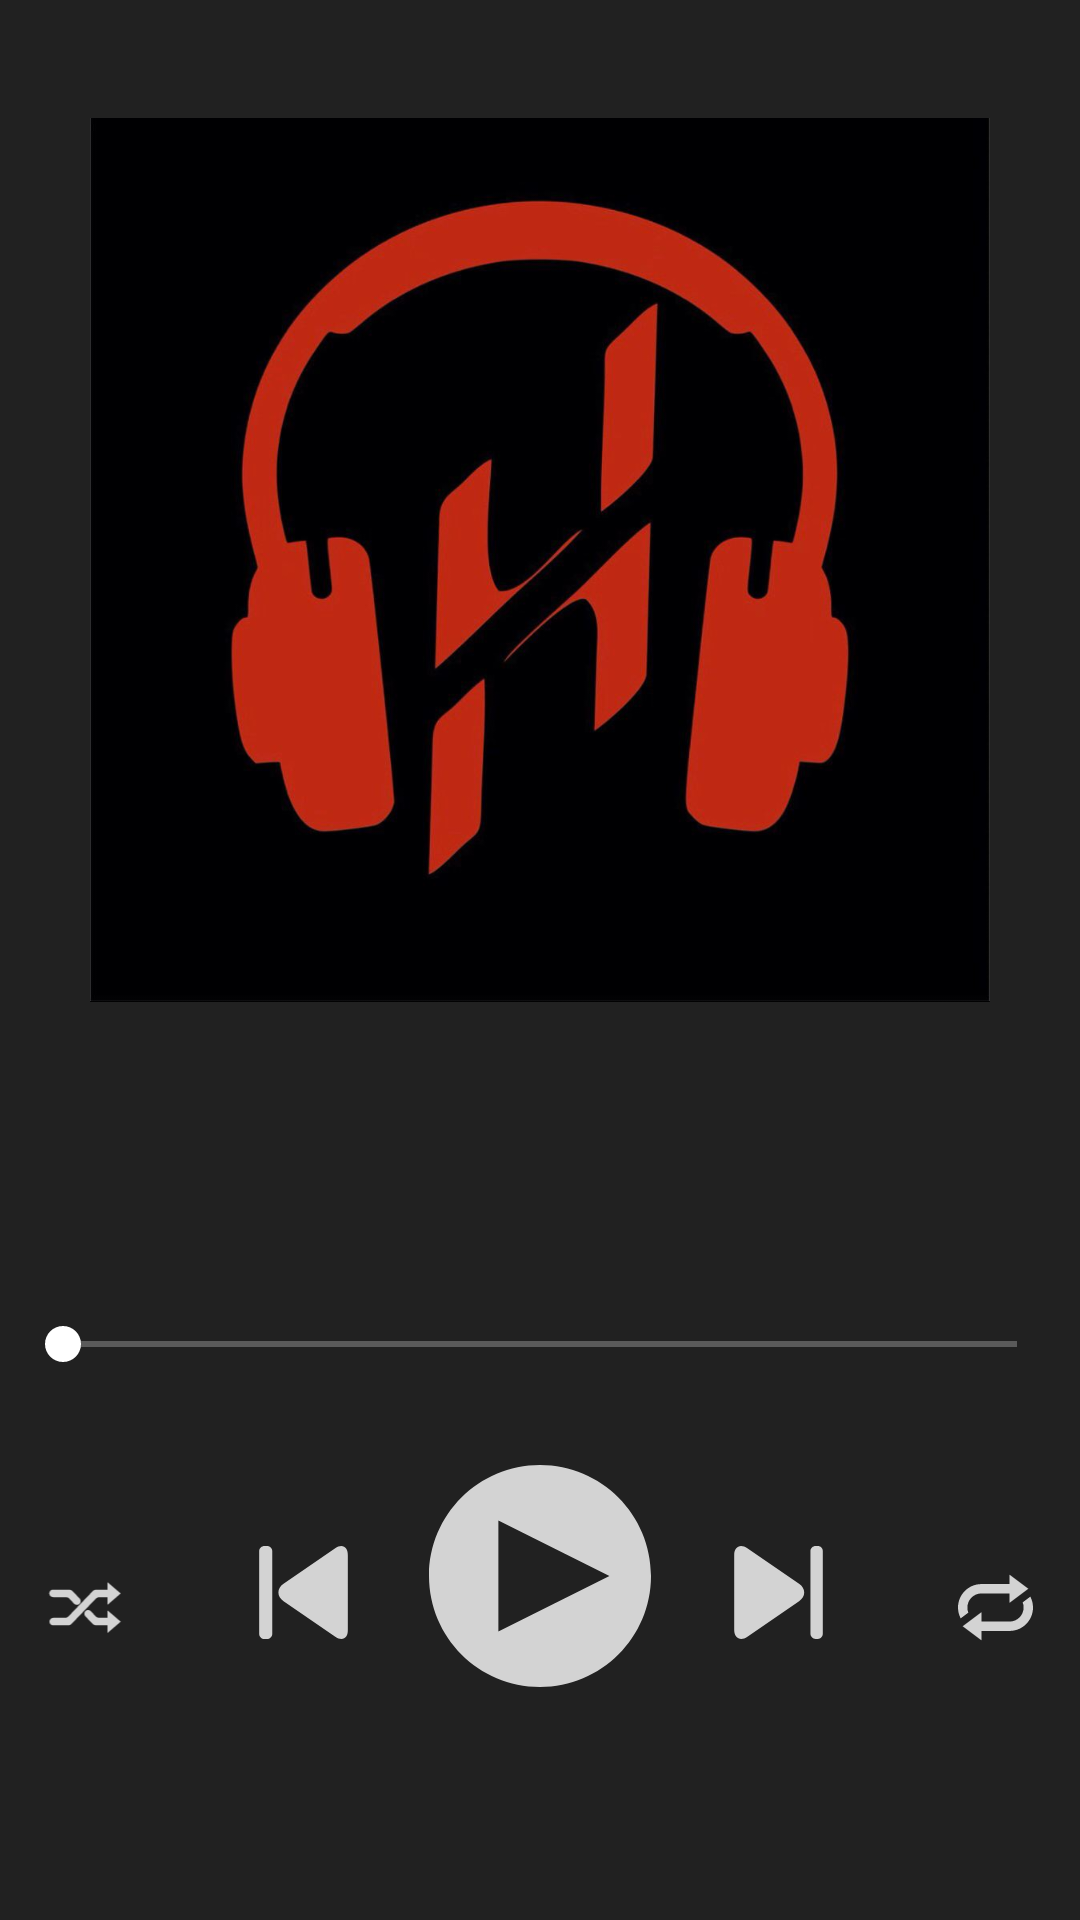

Screen size 1080*1920. Icon name, then its box in pixels as (x1, y1, x2, y2):
next: (734, 1546, 823, 1639)
play: (429, 1465, 651, 1687)
previous: (259, 1546, 348, 1639)
random: (49, 1582, 121, 1633)
repeat: (958, 1575, 1033, 1640)
